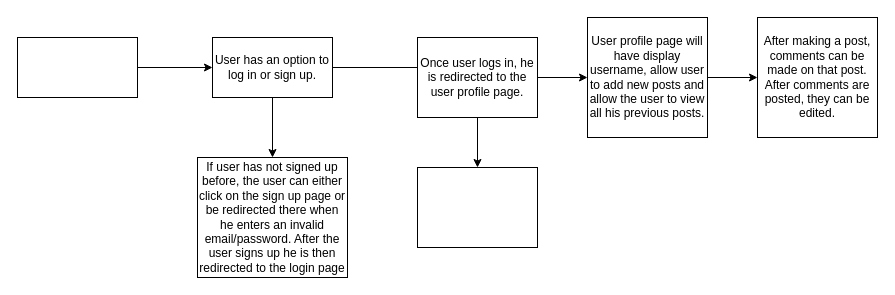
Some shapes in this 895 by 295 pixel diagram are drawn without their labels. The centre of each missing label's shape, as x and y in pixels:
"Page Loads. Communicates and gets information from the server." goes at (x=77, y=67).
"User can choose to logout from the navigation bar above." goes at (x=477, y=207).
